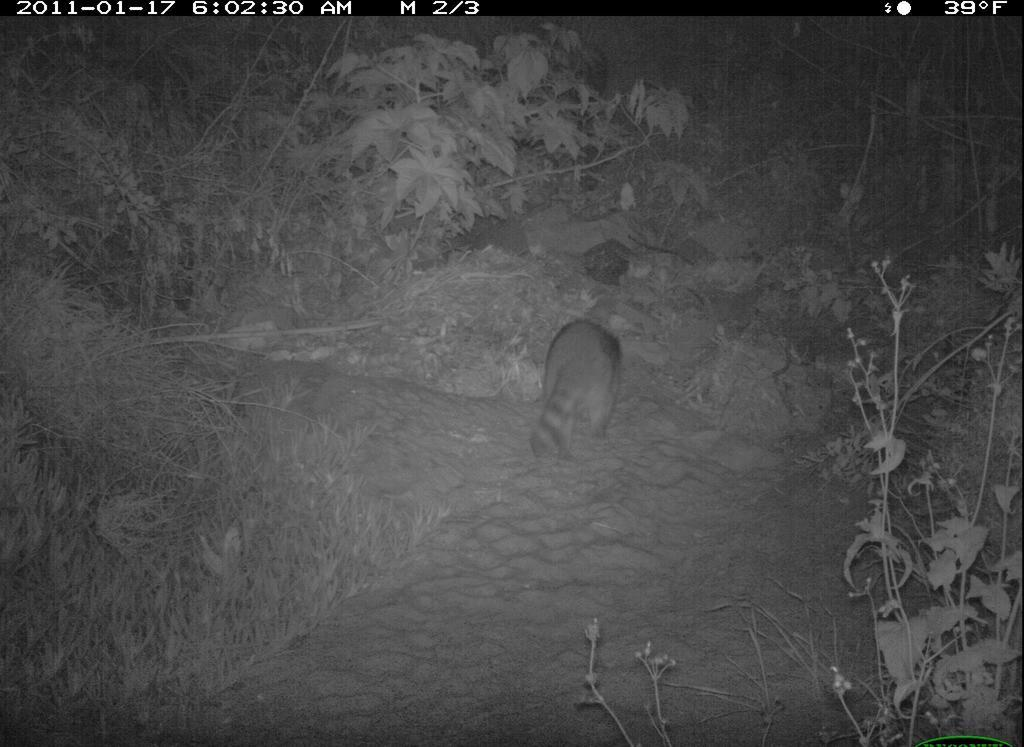raccoon: (528, 315, 630, 473)
